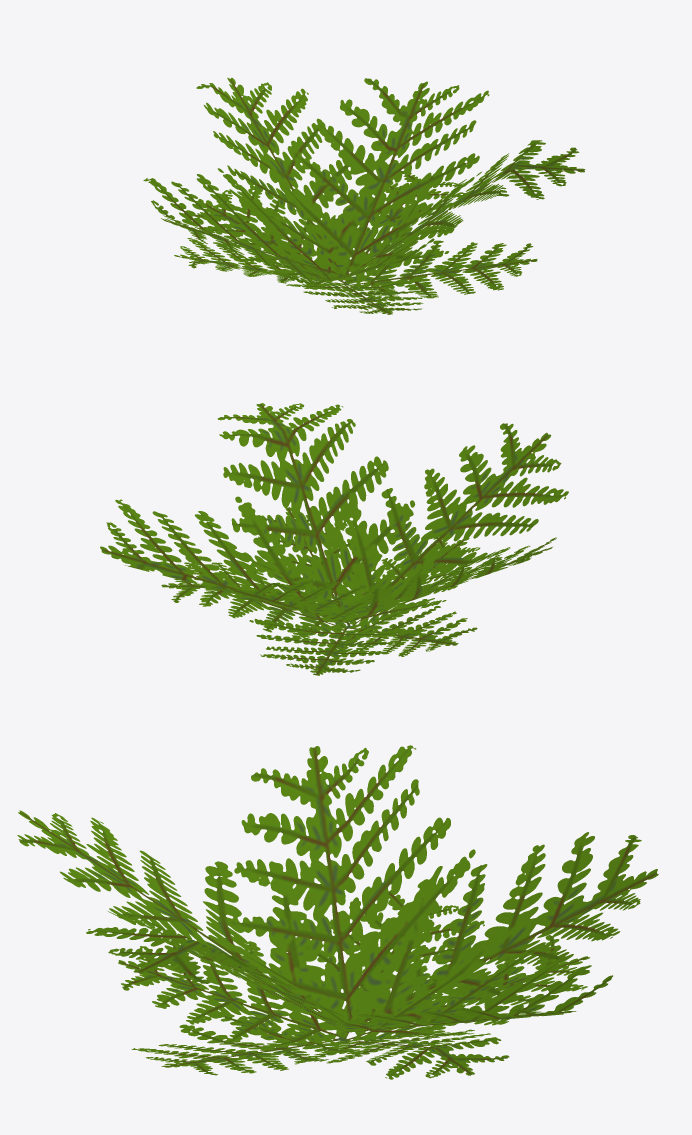
The model's file is Leaves_Bush_2.fbx.
3 views of the same model, one above another, from view 1: azimuth 30°, elevation 25°; view 2: azimuth 150°, elevation 25°; view 3: azimuth 270°, elevation 25° (orthographic). The views are drawn at different scales.
Parts seen in each view (by area): view 1: leaves_Bush_2; view 2: leaves_Bush_2; view 3: leaves_Bush_2.
Boxes of the visible parts, left/top/right/bottom form: leaves_Bush_2: left=143, top=77, right=585, bottom=314; leaves_Bush_2: left=100, top=403, right=568, bottom=675; leaves_Bush_2: left=17, top=745, right=658, bottom=1079.
Size of the model in its own units: 2.24 by 0.6571 by 2.24.
